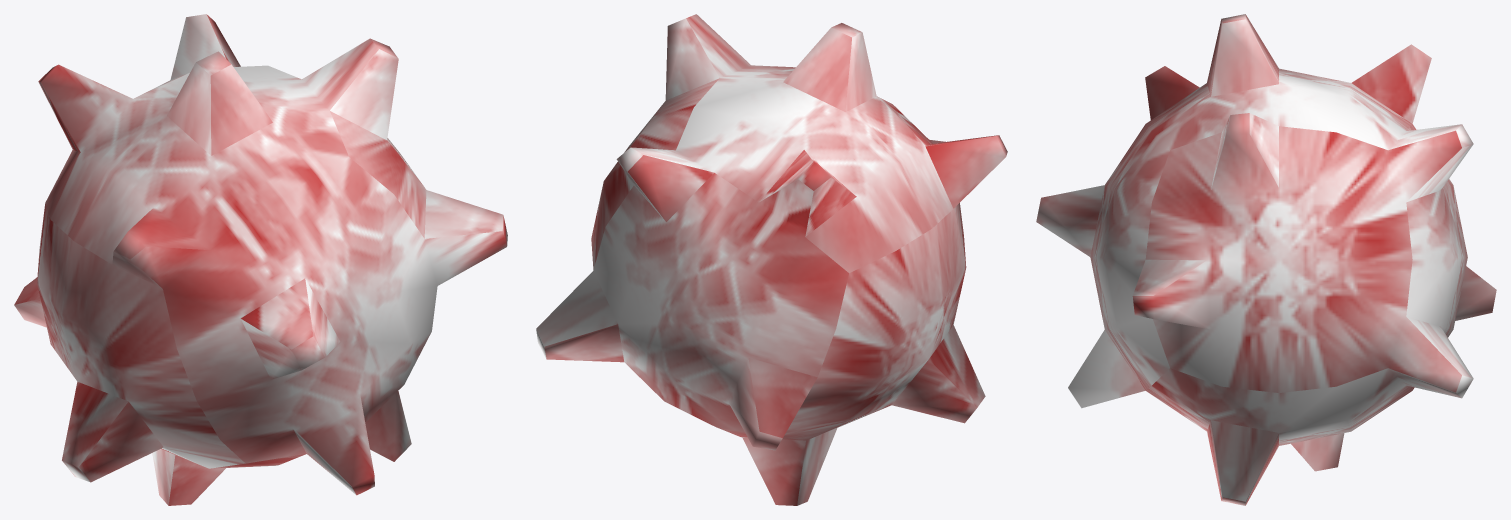
The model's file is esfera2-reator.fbx.
The picture shows the model from 3 angles, left to right: view 1: azimuth 30°, elevation 25°; view 2: azimuth 150°, elevation 25°; view 3: azimuth 270°, elevation 25°; orthographic projection. The views are drawn at different scales.
Visible parts, largest first — view 1: Cube; view 2: Cube; view 3: Cube.
Part boxes in pixels (bbox=[...]): Cube: bbox=[14, 14, 507, 505]; Cube: bbox=[536, 14, 1007, 505]; Cube: bbox=[1036, 14, 1496, 505].
Bounding box in the file's own units: 0.4775 × 0.5551 × 0.5176.
